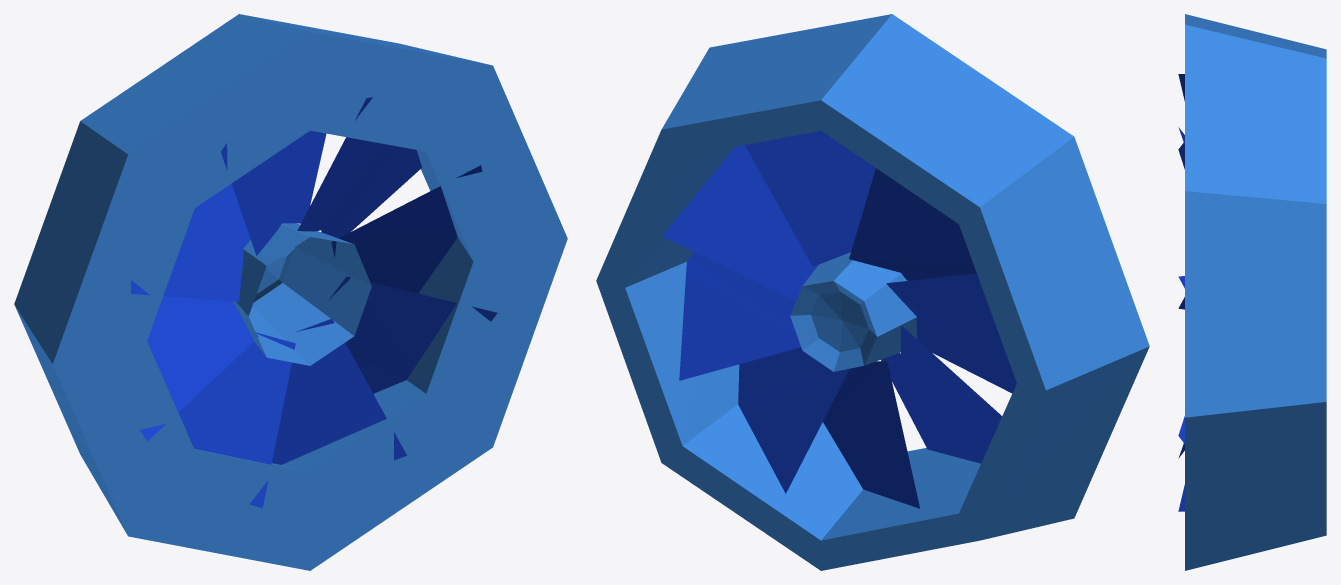
File: engine.FBX
3 renders of one model, left to right at view 1: azimuth 30°, elevation 25°; view 2: azimuth 150°, elevation 25°; view 3: azimuth 270°, elevation 25°, orthographic.
Visible parts, largest first — view 1: VIFS001, VIFS002; view 2: VIFS001, VIFS002; view 3: VIFS001, VIFS002.
Boxes of the visible parts, x1=… form: VIFS001: x1=14, y1=14, x2=567, y2=570; VIFS002: x1=130, y1=97, x2=497, y2=508; VIFS001: x1=596, y1=14, x2=1149, y2=570; VIFS002: x1=662, y1=130, x2=1016, y2=508; VIFS001: x1=1185, y1=14, x2=1326, y2=570; VIFS002: x1=1178, y1=74, x2=1184, y2=511.
Bounding box in the file's own units: 0.71 × 0.71 × 0.178.
